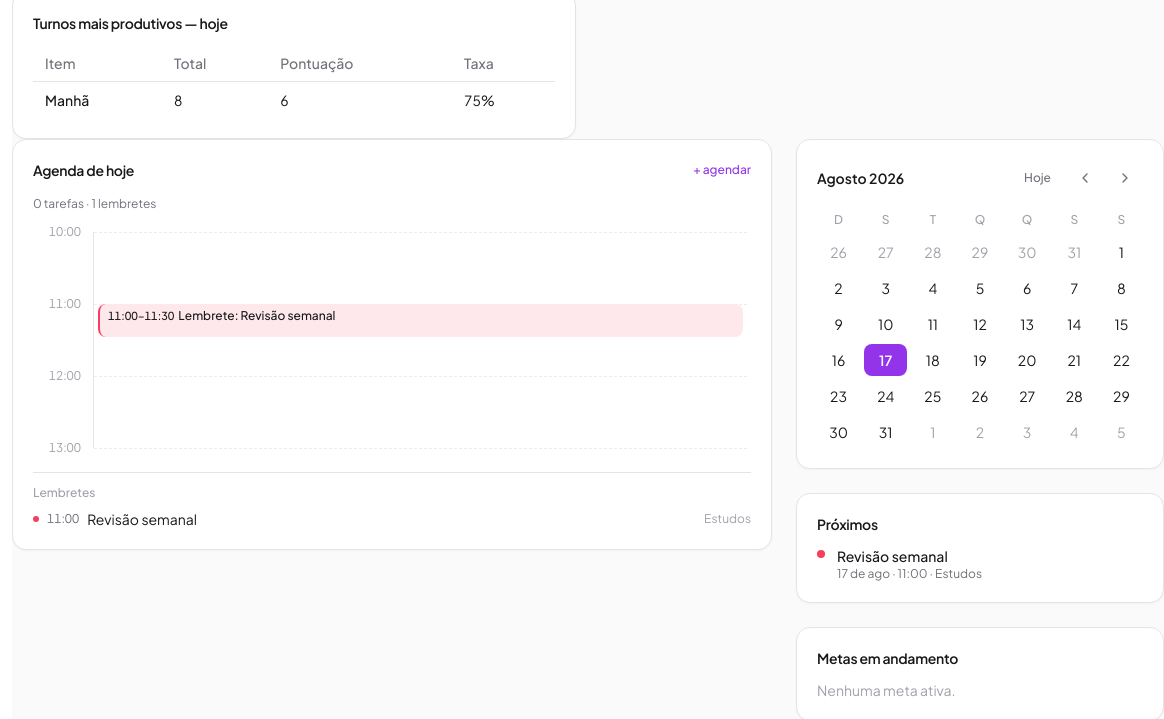
Test: DashboardPage › usa métricas e rankings do backend sem ligá-los ao dia selecionado na agenda
(page scrolled)
Check: the link "11:00–11:30 Lembrete: Revisão semanal" is shown, box x1=108 y1=308 x2=336 y2=323
Click the button "18" at (933, 360), box x1=911 y1=344 x2=954 y2=376
(page scrolled)
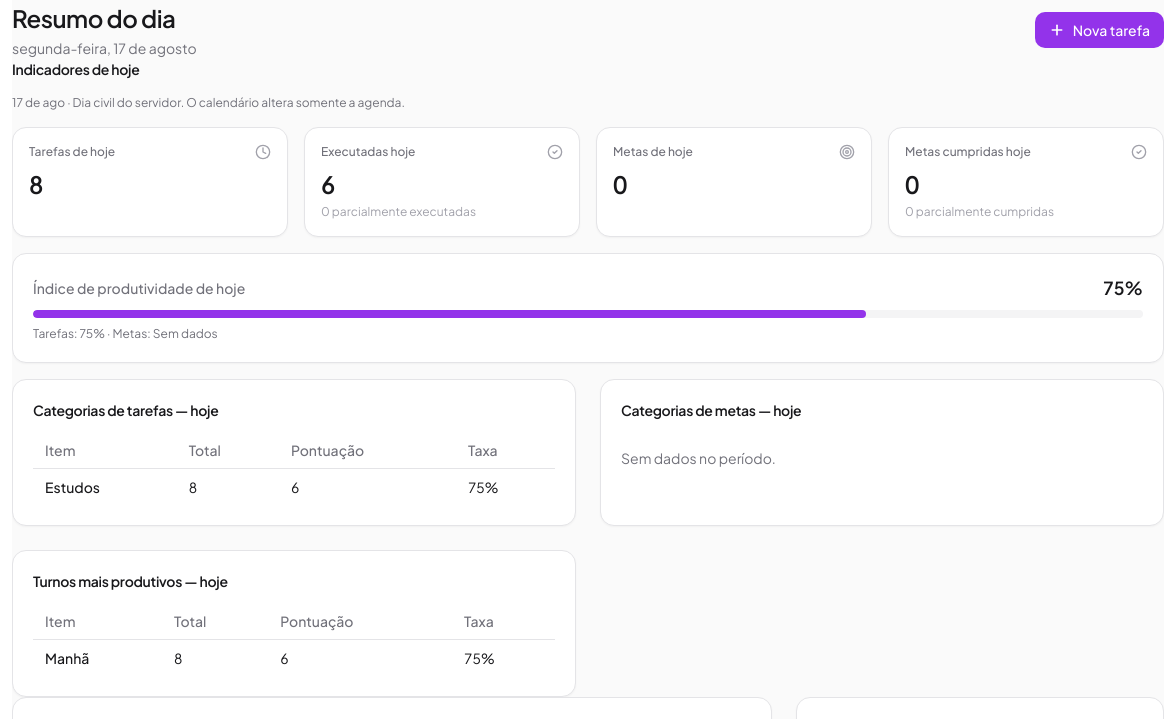
Check: the heading "Indicadores de hoje" is shown, box x1=12 y1=60 x2=140 y2=78
Check: the link "11:00–11:30 Lembrete: Revisão semanal" is gone
